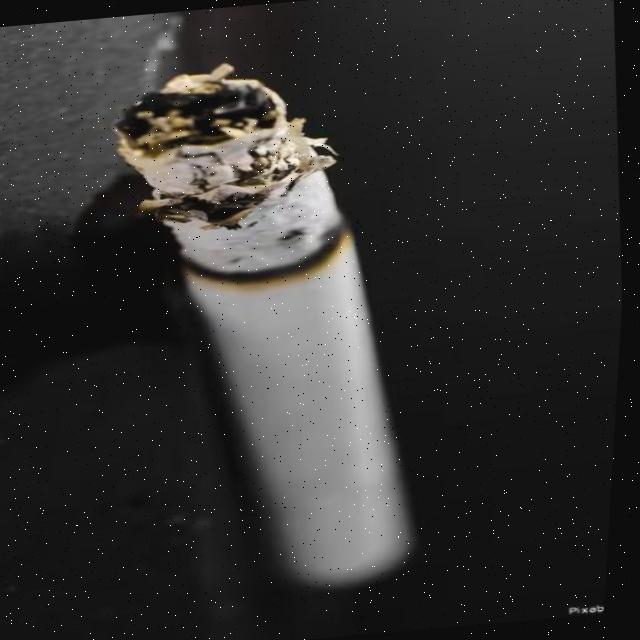cigarette: (110, 62, 403, 585)
